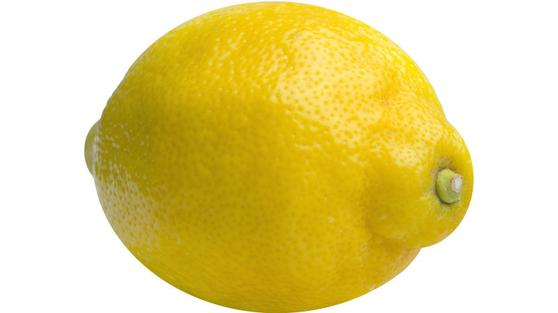lemon: (77, 3, 486, 311)
